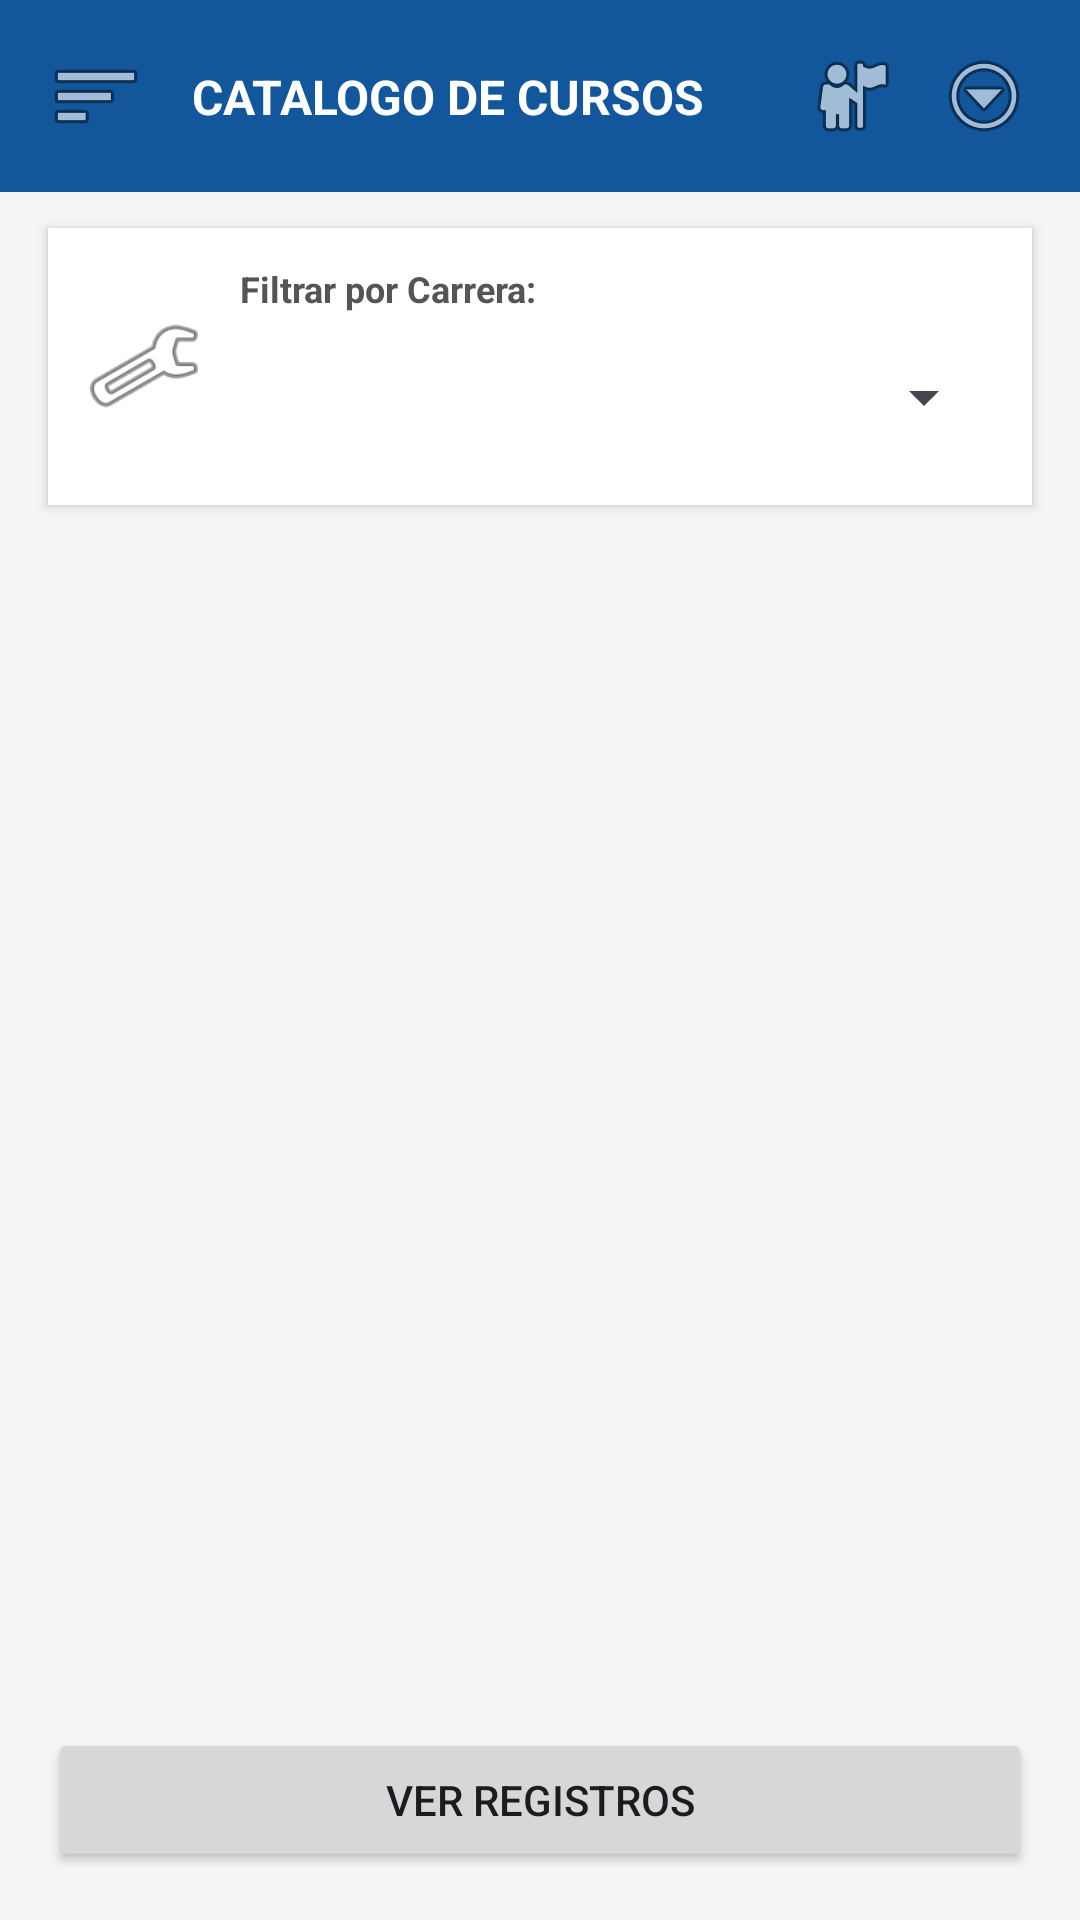

Where to tap for icons on this 1080px×1920px app screen, as point (x, y):
Icono de configuración de filtro: point (144, 366)
Icono de opciones adicionales: point (984, 96)
Menú de navegación: point (96, 96)
